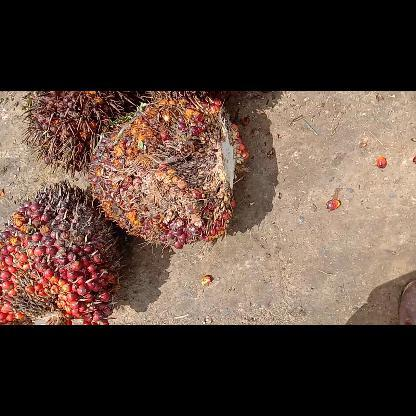TBS masak: (88, 90, 238, 248), (0, 180, 123, 325), (21, 90, 135, 174)
